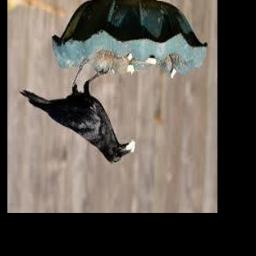Crow: (19, 60, 135, 165)
